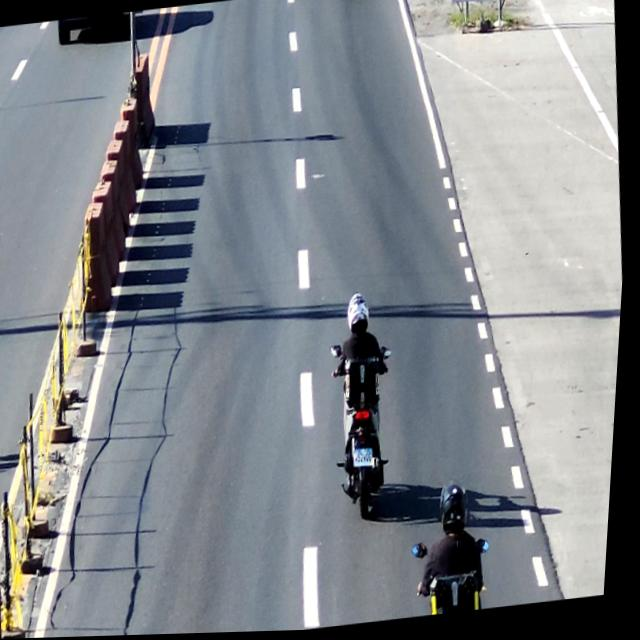License-Plate: (353, 441, 386, 476)
Motorcycle: (321, 293, 410, 523), (412, 477, 501, 619)
